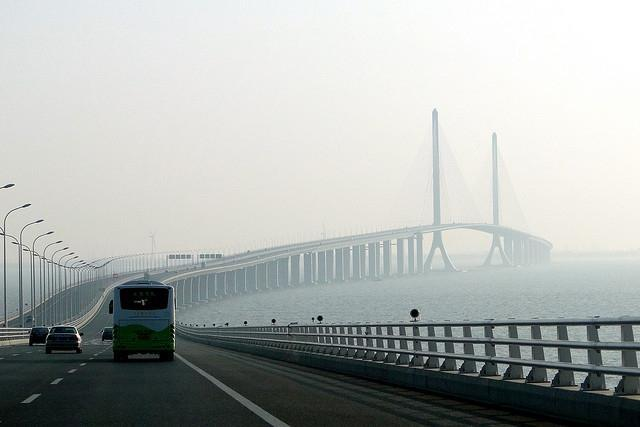bus: (108, 278, 176, 362)
car: (45, 324, 85, 354), (28, 327, 50, 346), (100, 327, 113, 341)
